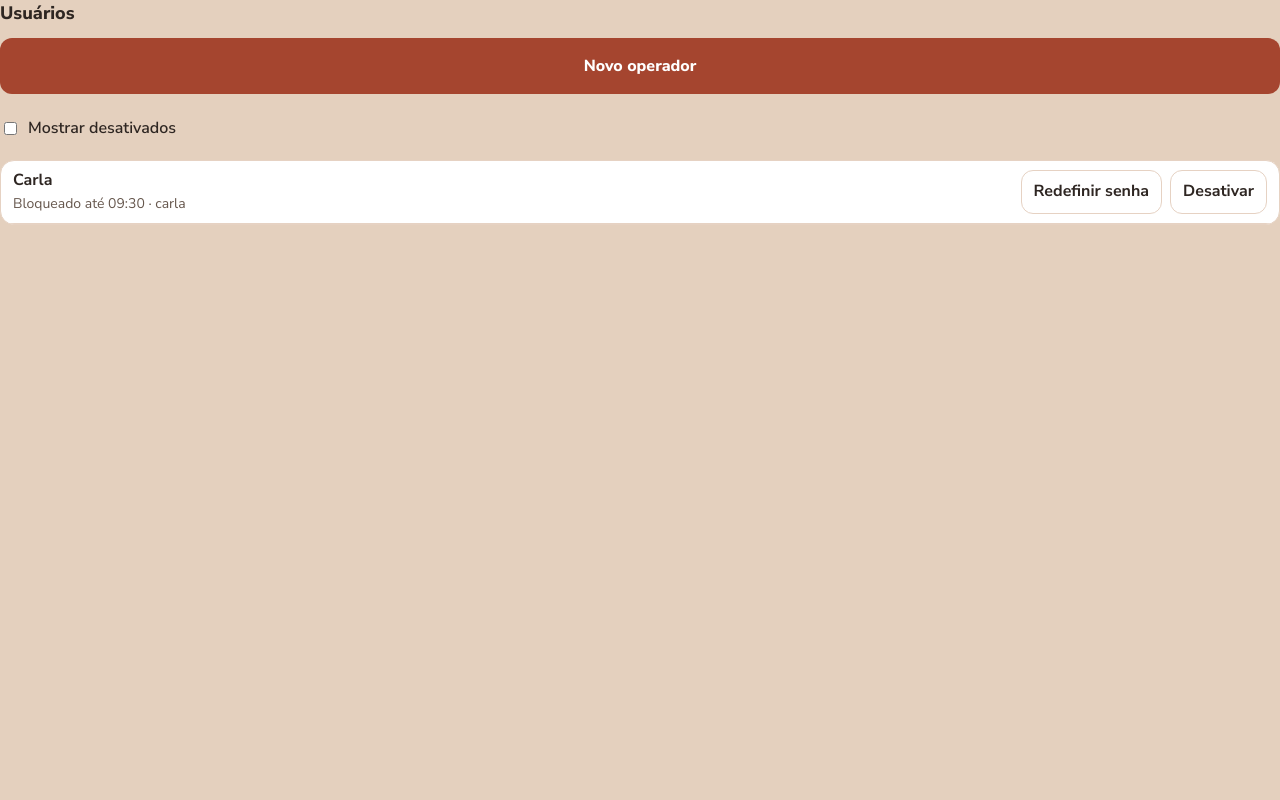
Scenario: formulário não tem campo de perfil
This screenshot has width=1280, height=800.
Click the button "Novo operador": click(640, 66) [0, 38, 1279, 94]
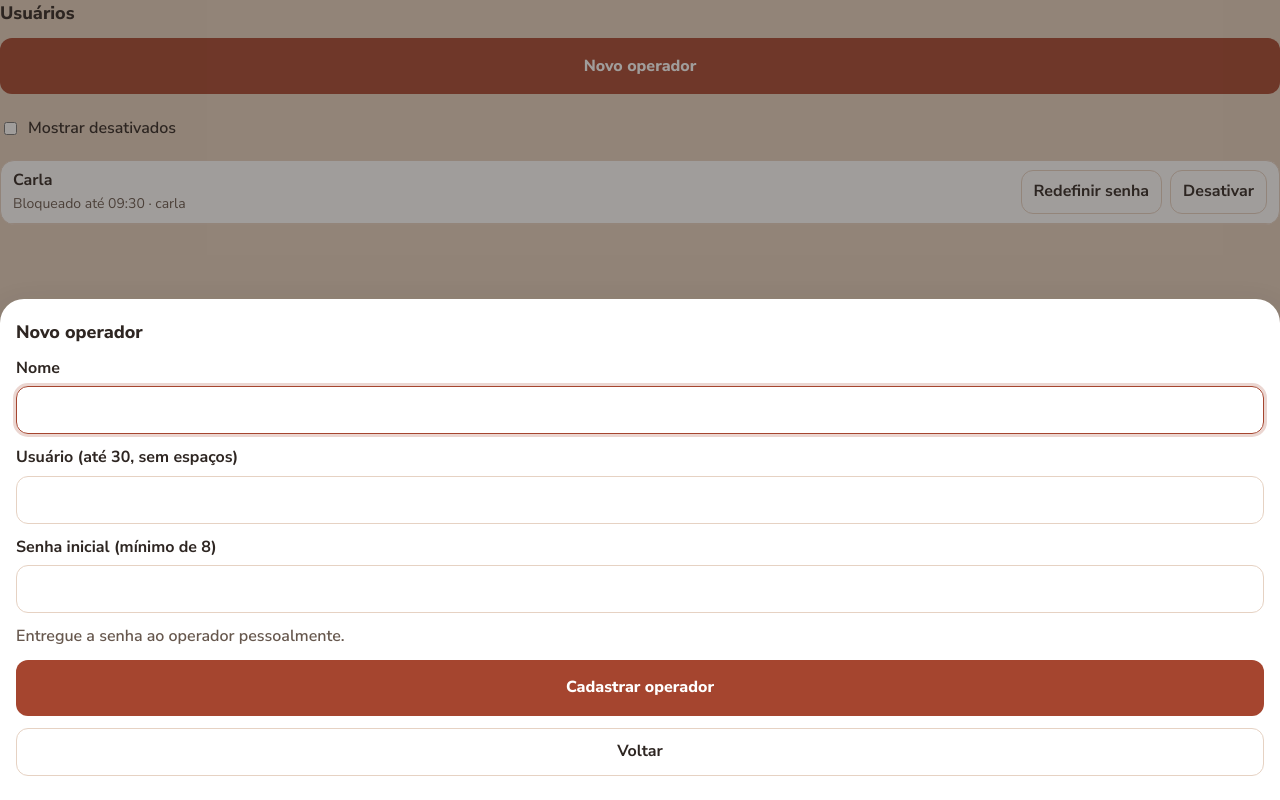
Expected: the password field labelled "Senha inicial (mínimo de 8)" is shown, [16, 565, 1264, 613]
